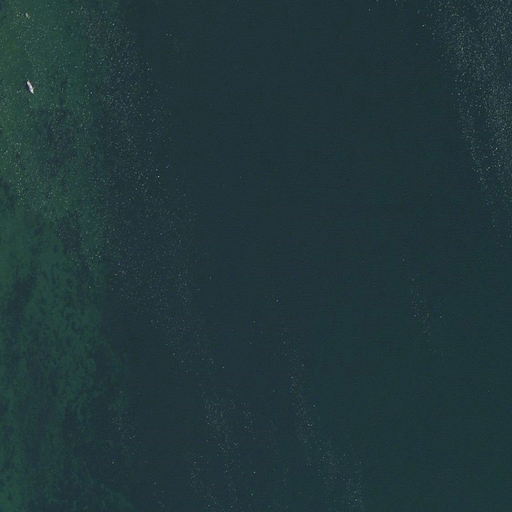ship: (25, 80, 35, 95)
